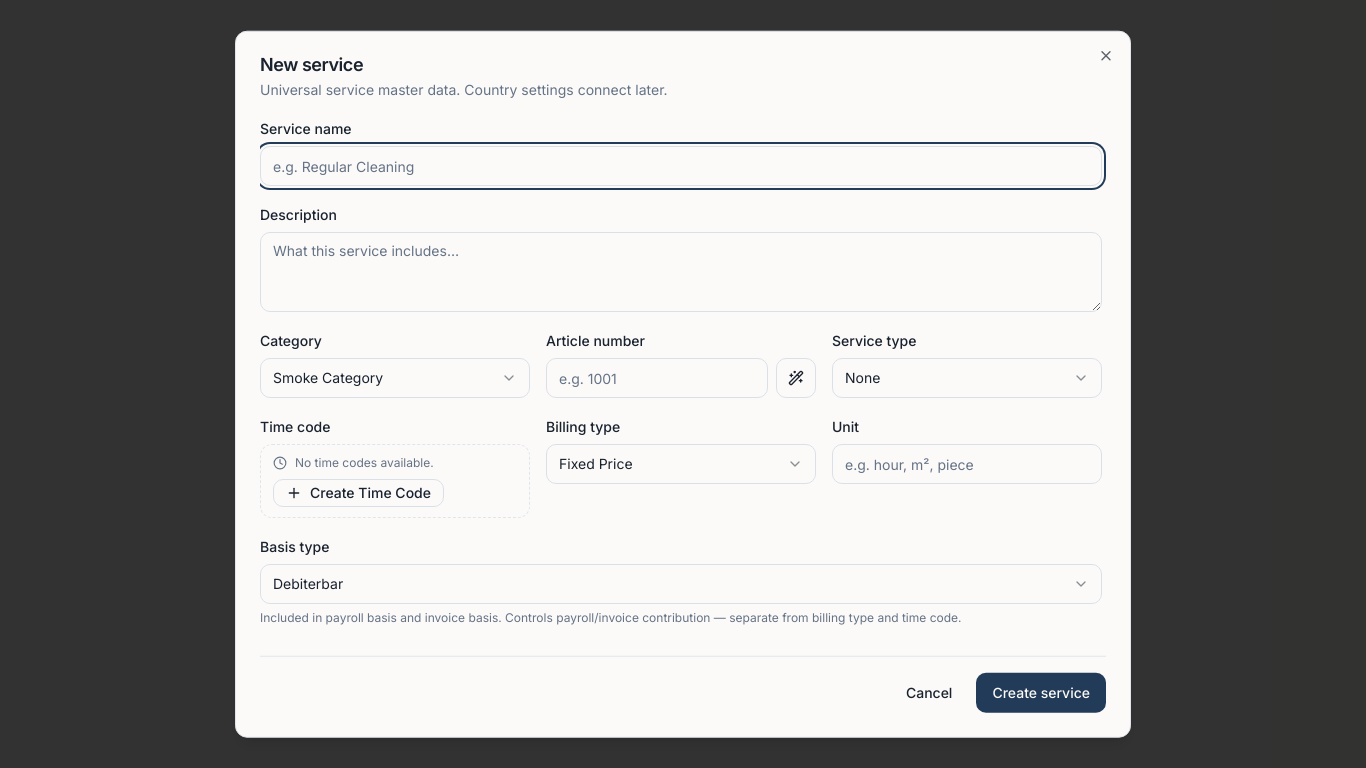
Test case: CORE-WRITES-A1 ServiceDialog › keeps the dialog open and shows an error when Supabase service create fails
Type "Broken Service" into the field labelled "Service name" at (681, 166), box left=260, top=146, right=1102, bottom=186
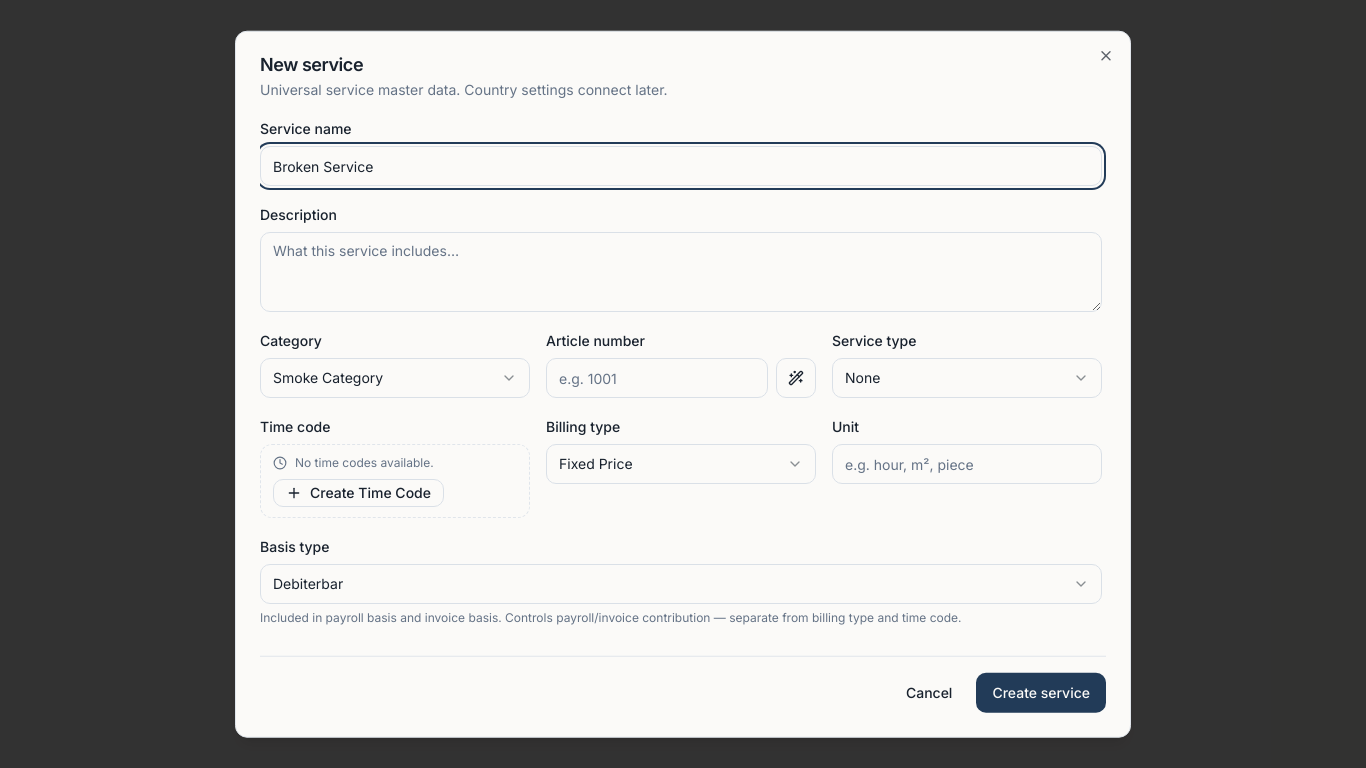
Click the button "Create service" at (1041, 692), box left=976, top=672, right=1106, bottom=712
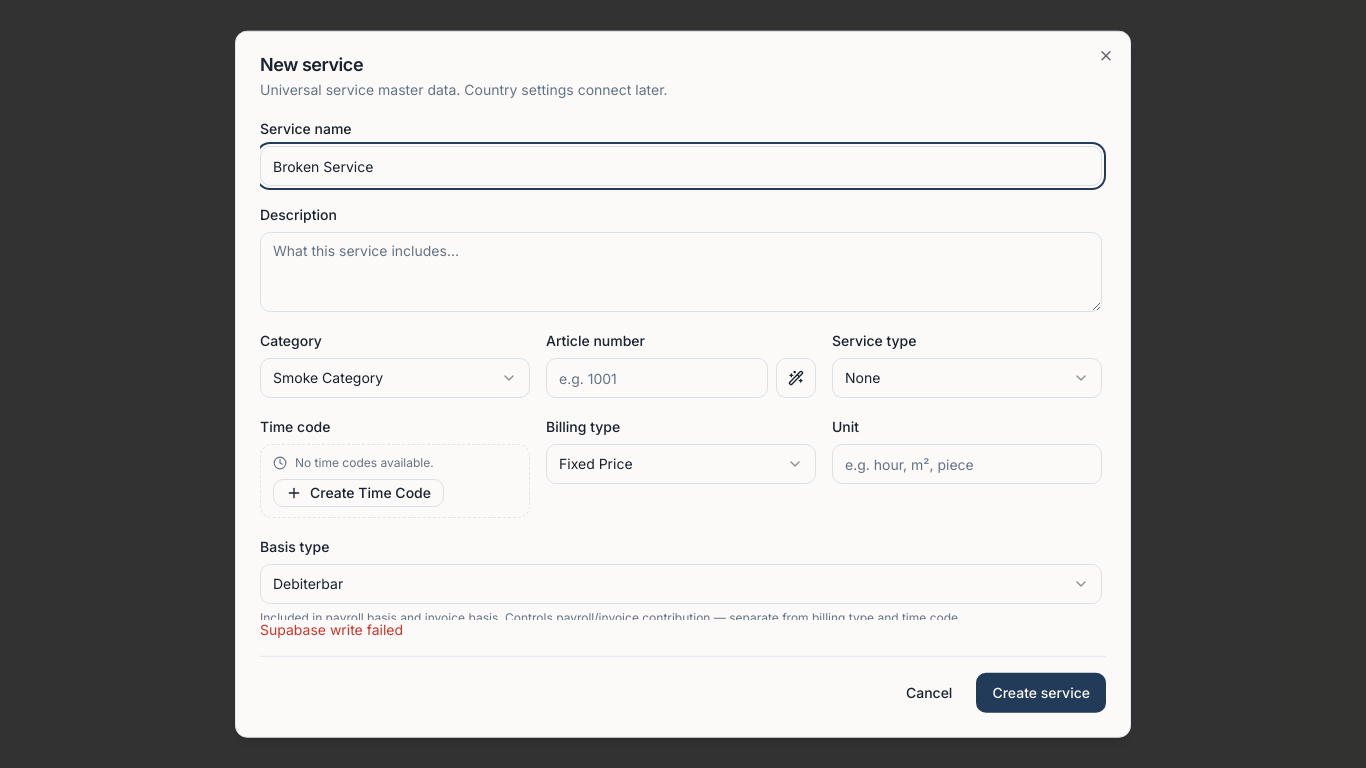
Expected: the message reads "Supabase write failed", left=260, top=620, right=403, bottom=637
